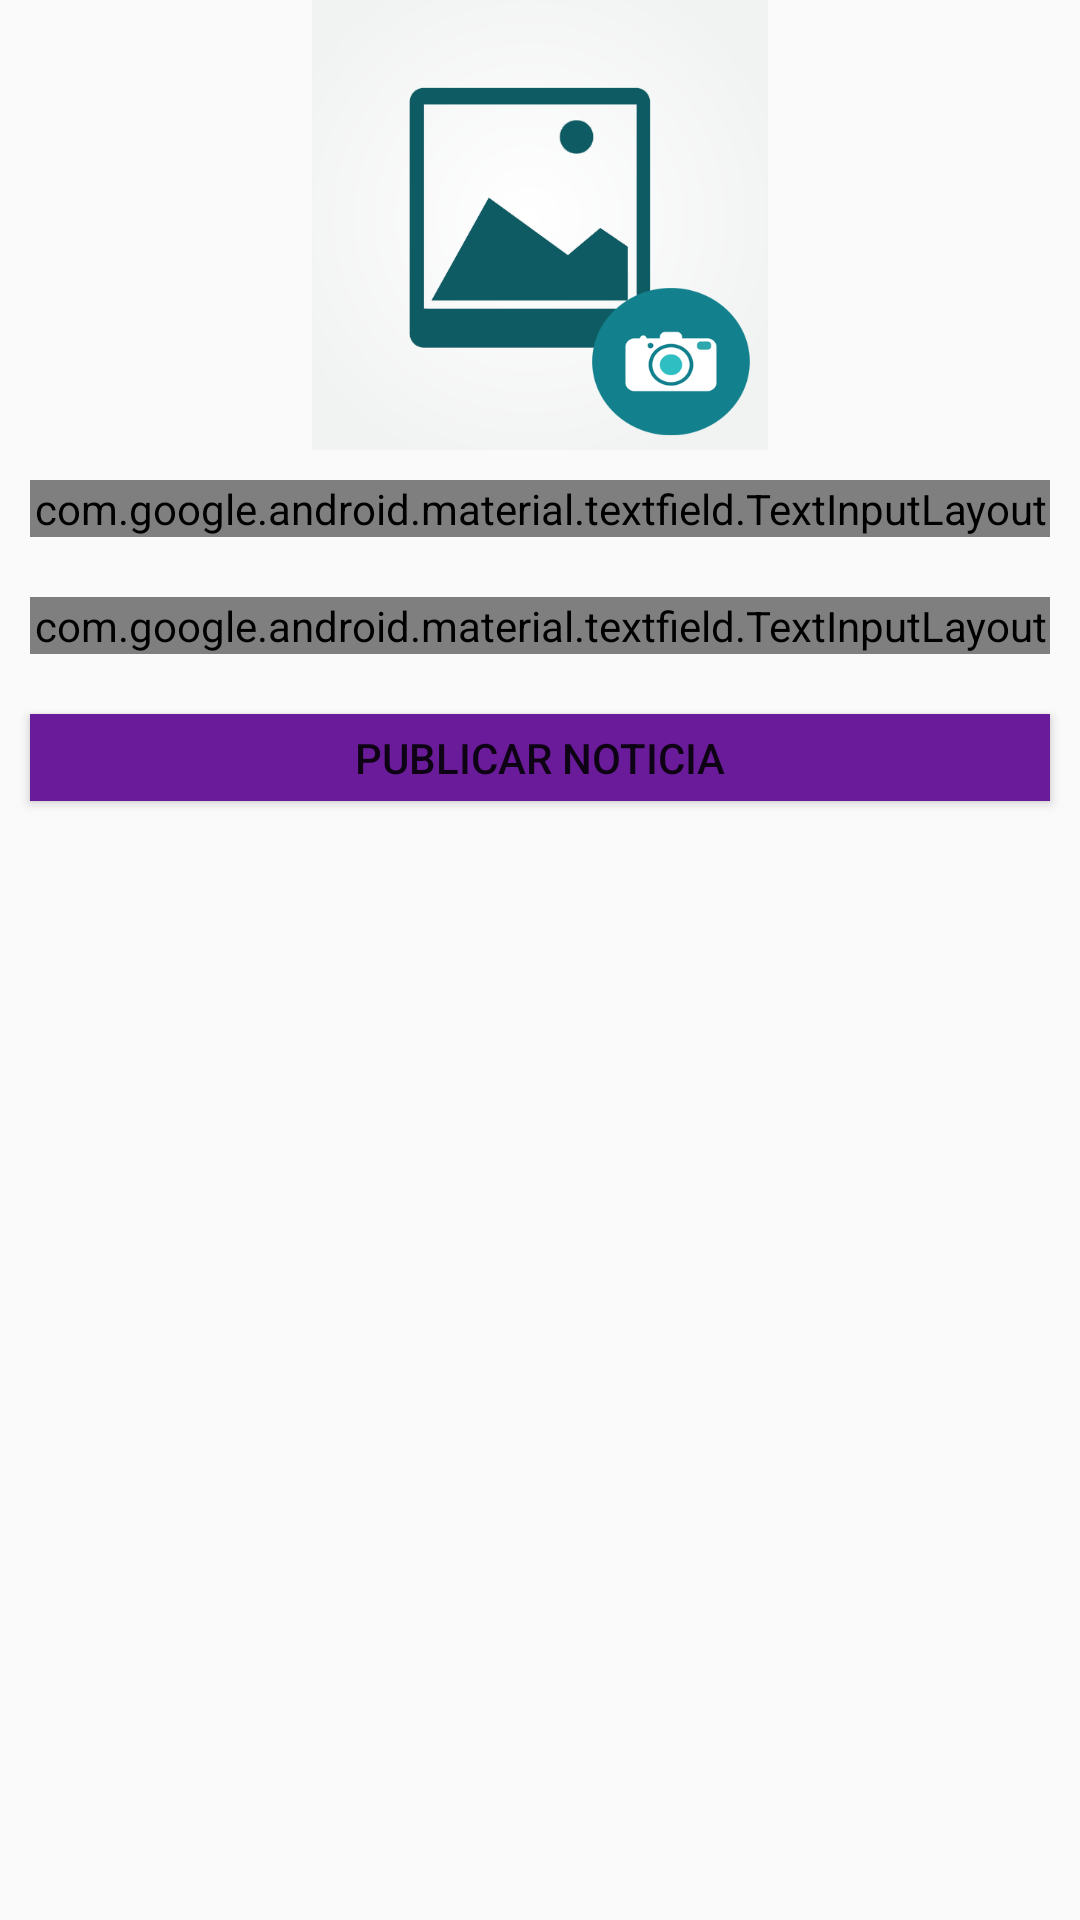

Named icons in this screenshot (1080px×1920px) and their bounding boxes, (x1, y1, x2, y2):
foto: (409, 87, 750, 436)
